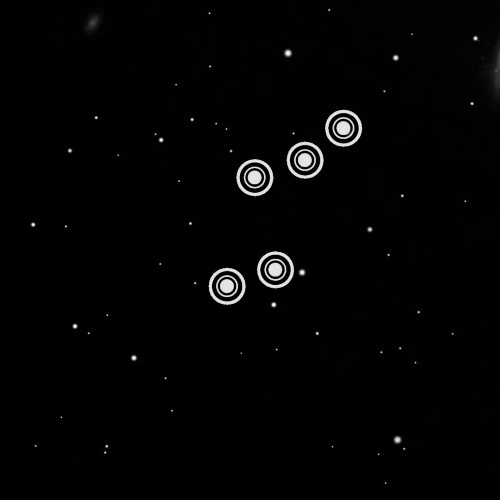lyra: (199, 95, 372, 322)
